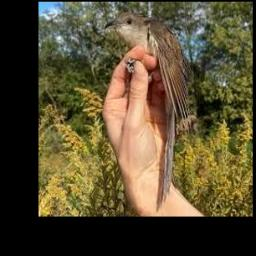Cuckoo: (105, 10, 192, 208)
